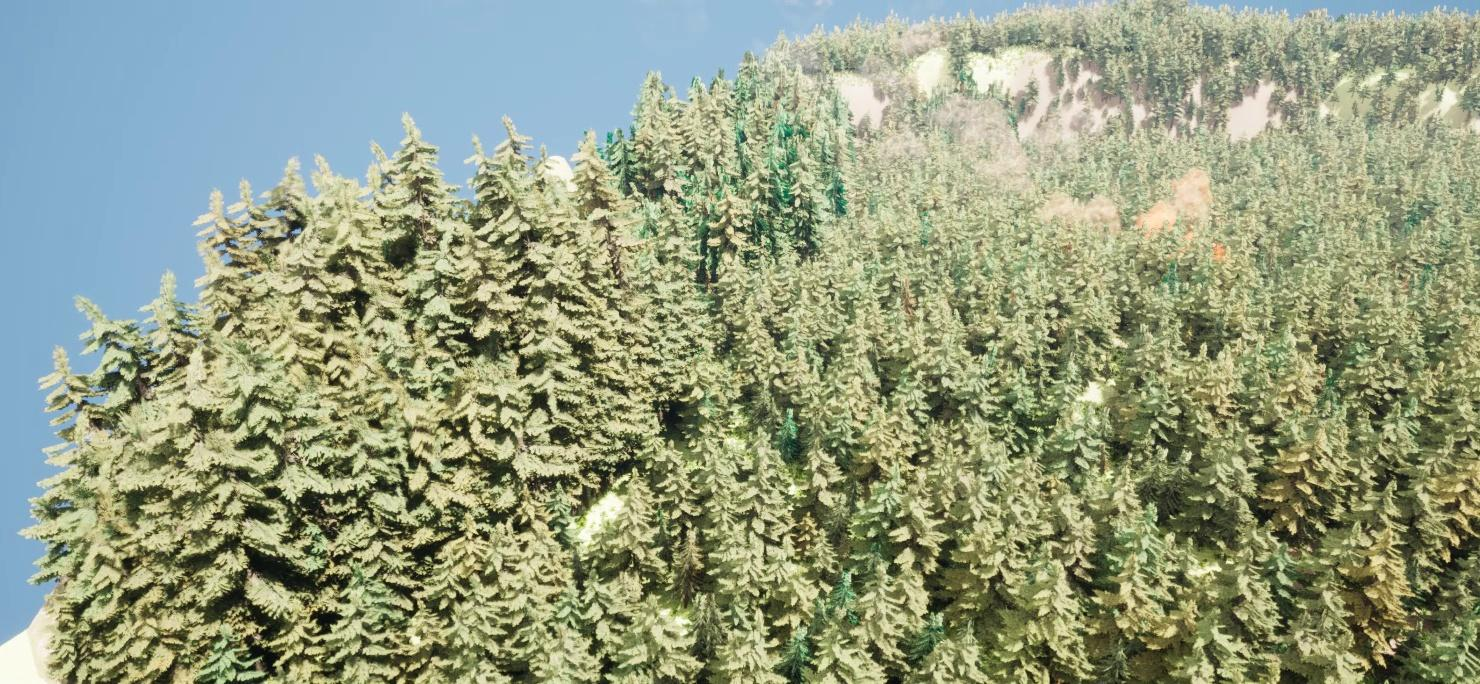smoke: (1044, 163, 1241, 258)
